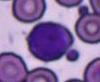L: (28, 22, 74, 62)
